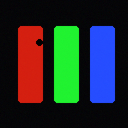0 point: (36, 39, 42, 45)
